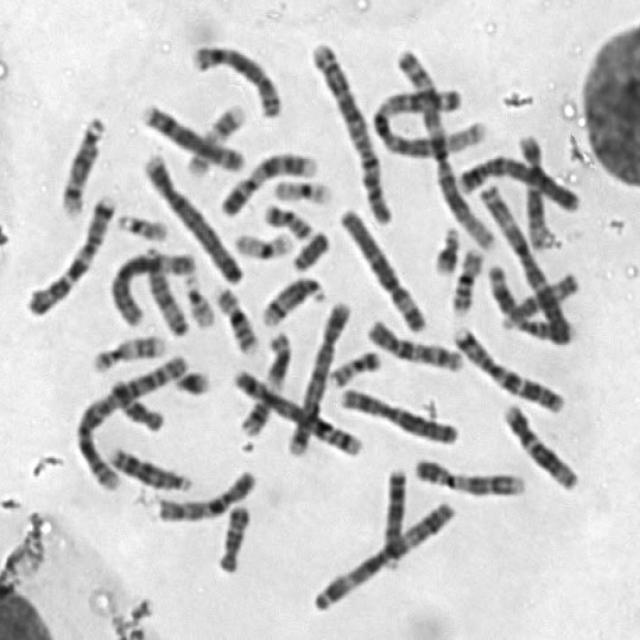A1: (386, 36, 501, 254), (364, 77, 492, 158)
A2: (66, 343, 192, 492), (304, 34, 394, 226)
A3: (305, 491, 460, 613), (472, 172, 574, 345)
B4: (134, 144, 246, 286), (450, 146, 584, 214)
B5: (227, 359, 368, 458), (281, 291, 355, 459)
C10: (148, 460, 260, 524), (359, 309, 466, 375)
C11: (481, 255, 578, 345), (234, 322, 294, 437)
C12: (495, 393, 583, 492), (510, 126, 557, 250)
C6: (332, 199, 430, 333), (102, 241, 197, 330)
C7: (19, 185, 120, 316), (445, 317, 568, 414)
C8: (134, 95, 248, 172), (183, 35, 284, 119)
C9: (214, 142, 319, 218), (406, 449, 530, 499)
D13: (102, 437, 196, 494), (376, 459, 409, 570)
D14: (54, 106, 110, 218), (255, 267, 329, 327)
D15: (490, 263, 582, 332), (136, 240, 192, 338)
E16: (208, 276, 262, 355), (444, 238, 486, 316)
E17: (179, 95, 248, 177), (84, 324, 170, 374)
E18: (104, 372, 168, 433), (210, 495, 253, 575)
F19: (227, 222, 297, 262), (266, 170, 335, 206)
F20: (323, 340, 385, 388), (256, 194, 316, 241)
G21: (425, 217, 463, 277), (167, 359, 215, 398)
G22: (177, 266, 218, 330), (110, 204, 170, 242)
X: (481, 255, 578, 345), (332, 380, 462, 446)
Y: (285, 222, 332, 272)
